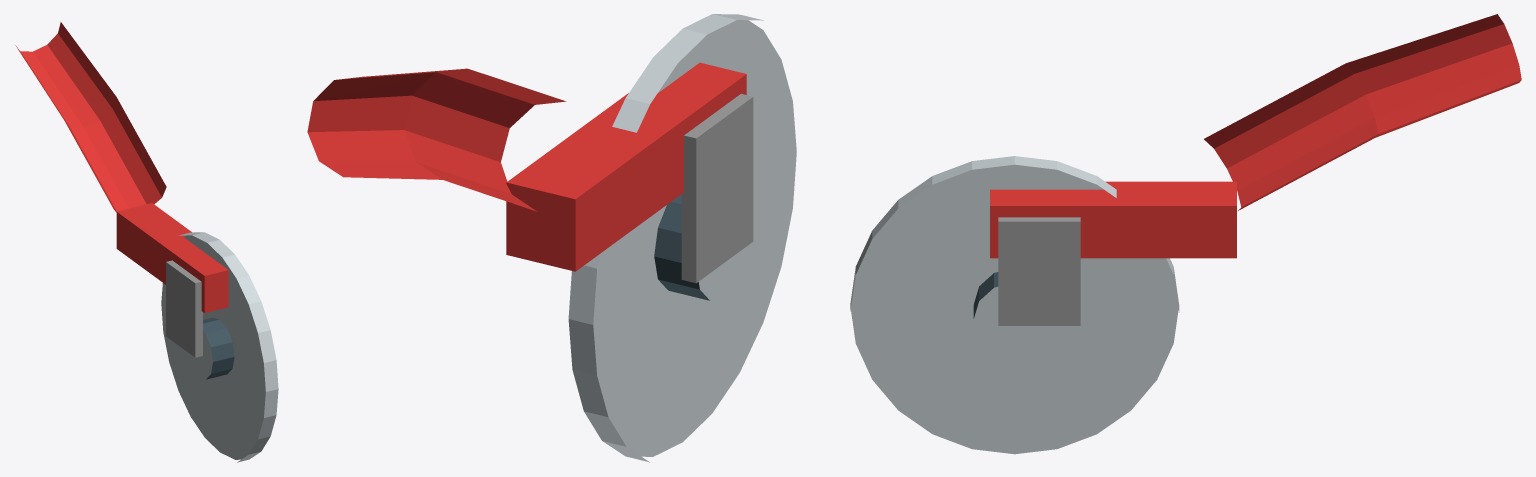
File: pizzaskarare.glb
3 renders of one model, left to right at view 1: azimuth 30°, elevation 25°; view 2: azimuth 150°, elevation 25°; view 3: azimuth 270°, elevation 25°, orthographic. The views are drawn at different scales.
Visible parts, largest first — view 1: pizzaskarare; view 2: pizzaskarare; view 3: pizzaskarare.
Part boxes in pixels (<box>): pizzaskarare: <box>15,22,278,462</box>; pizzaskarare: <box>307,14,796,462</box>; pizzaskarare: <box>850,14,1521,454</box>.
Size of the model in its own units: 0.0951 by 0.592 by 0.8163.
